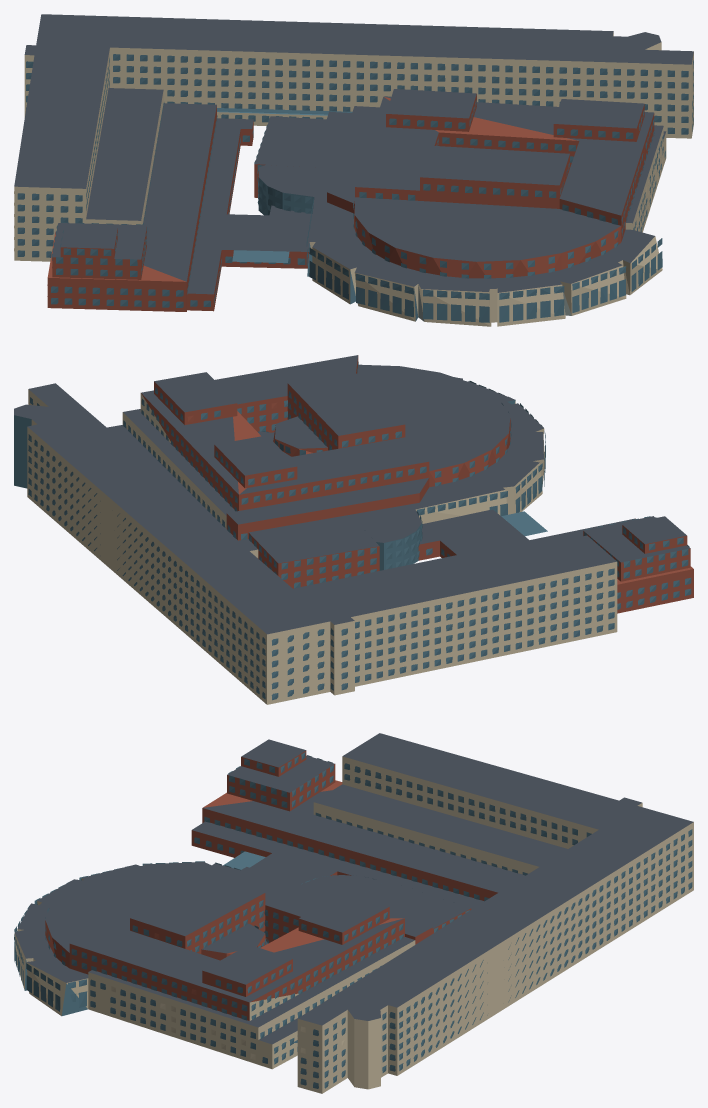
The model's file is stadhuis.lod2.glb.
3 views of the same model, one above another, from view 1: azimuth 30°, elevation 25°; view 2: azimuth 150°, elevation 25°; view 3: azimuth 270°, elevation 25° (orthographic). The views are drawn at different scales.
Visible parts, largest first — view 1: lod2; view 2: lod2; view 3: lod2.
Boxes of the visible parts, left/top/right/bottom form: lod2: left=14, top=14, right=693, bottom=326; lod2: left=14, top=355, right=693, bottom=704; lod2: left=14, top=733, right=693, bottom=1093.
Size of the model in its own units: 209 by 21.99 by 198.
